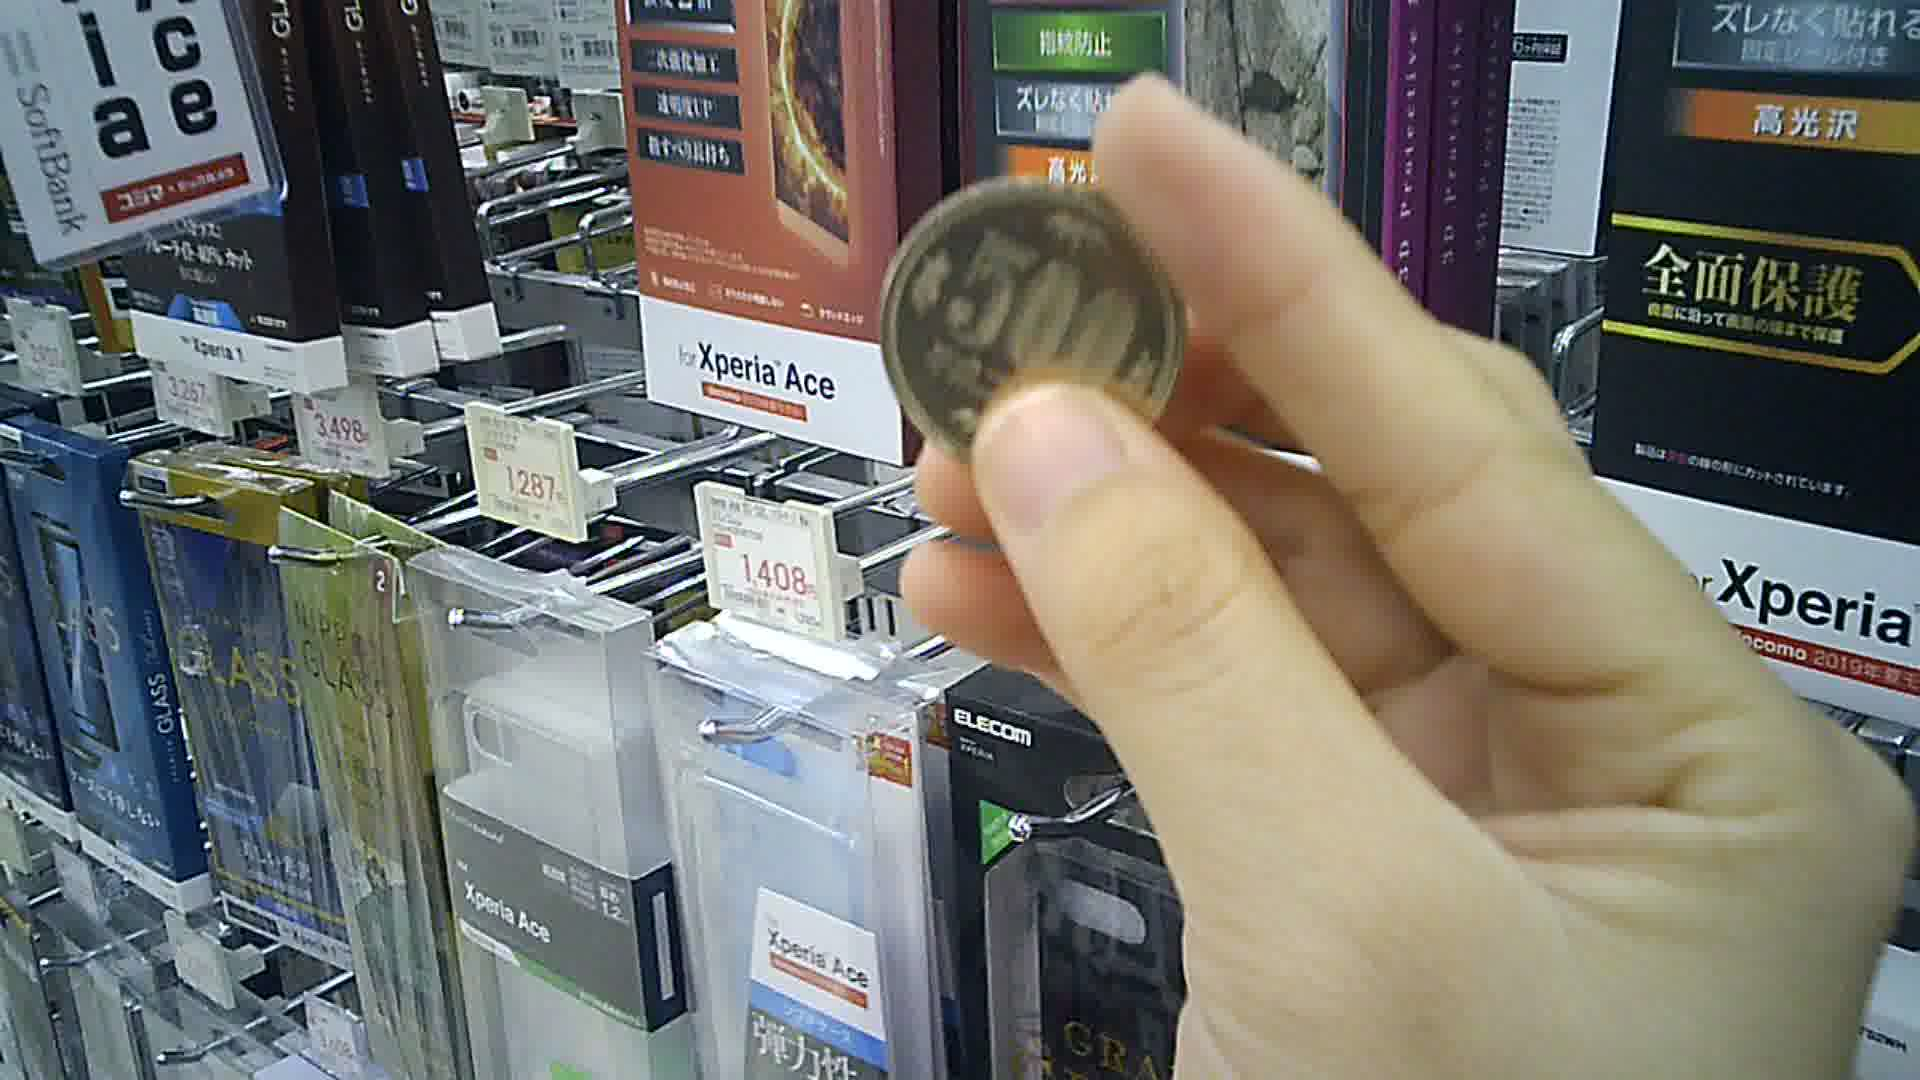500 Yen: (874, 174, 1185, 467)
